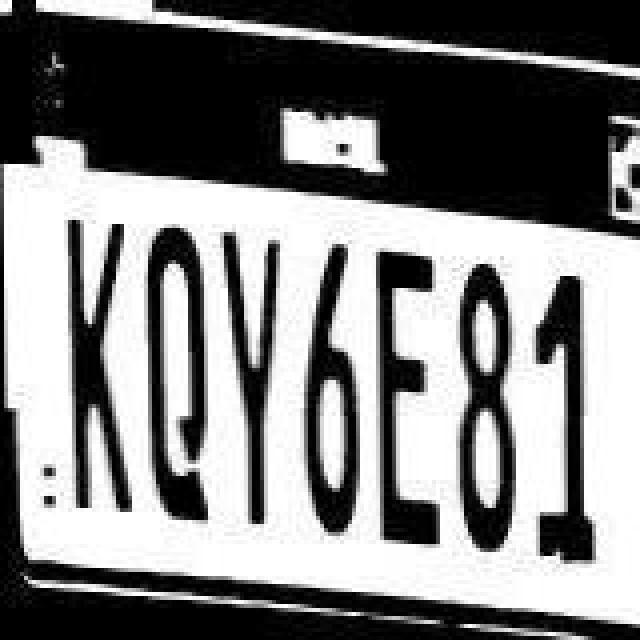1: (524, 272, 604, 568)
6: (294, 238, 370, 546)
8: (444, 256, 524, 560)
E: (360, 242, 448, 558)
K: (58, 210, 142, 526)
Q: (138, 222, 222, 538)
Y: (216, 224, 304, 544)
